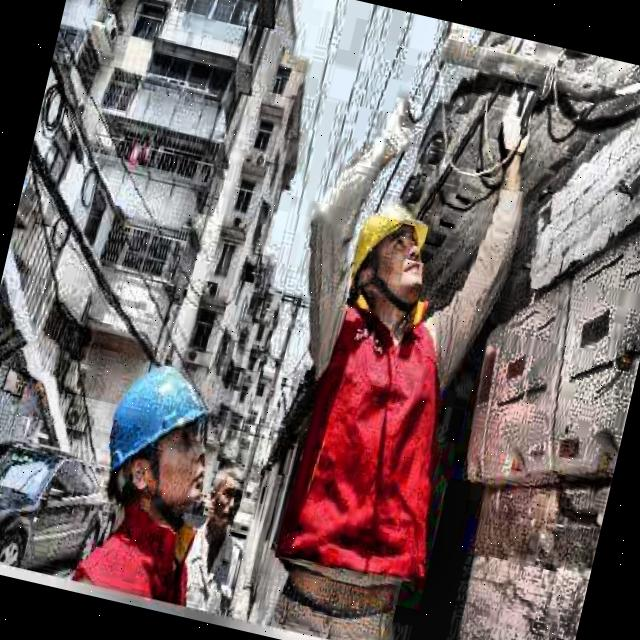helmet: (85, 339, 242, 540), (329, 196, 448, 322)
